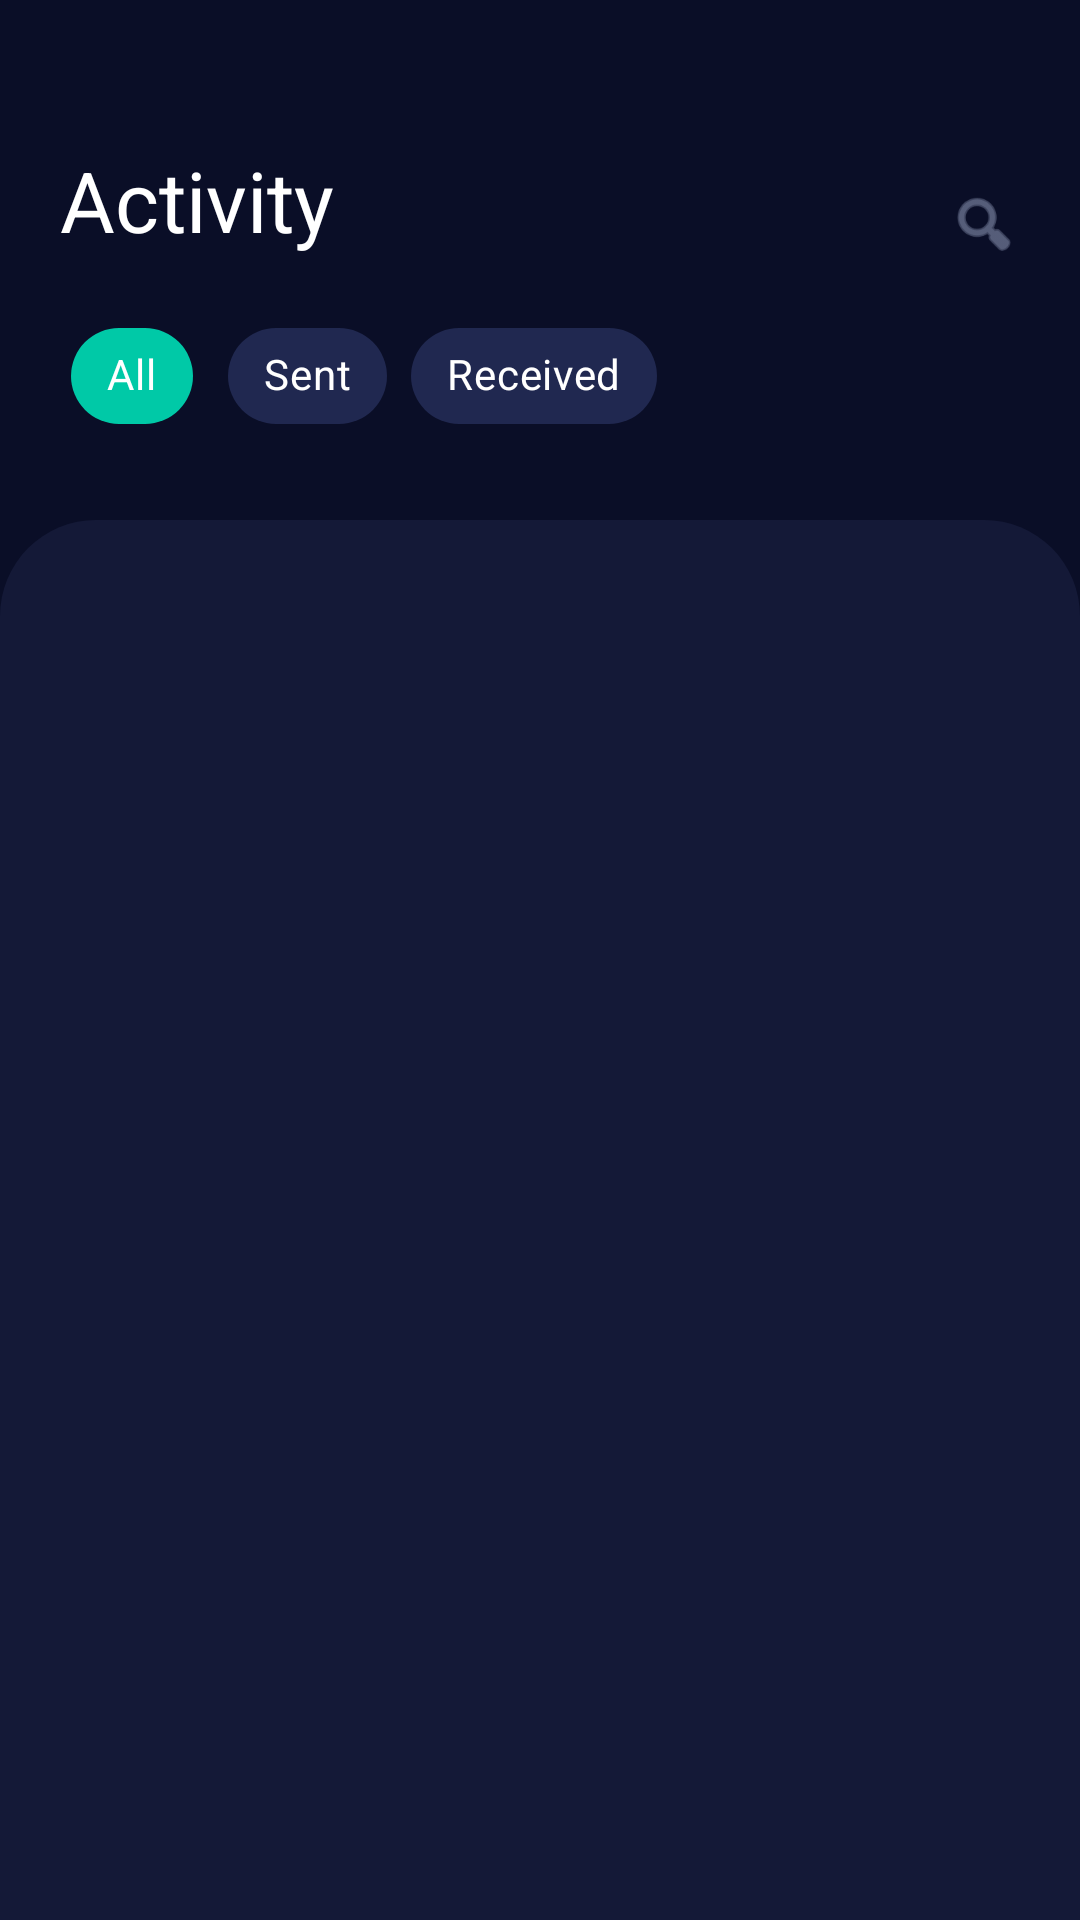

Where icons sit on this 1080 x 1920 app screen, as (x1, y1, x2, y2):
search: (958, 198, 1010, 251)
